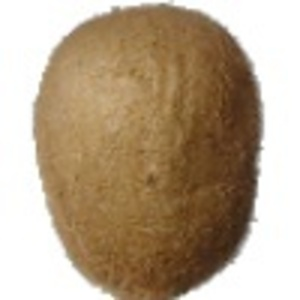kiwi: (31, 2, 264, 300)
